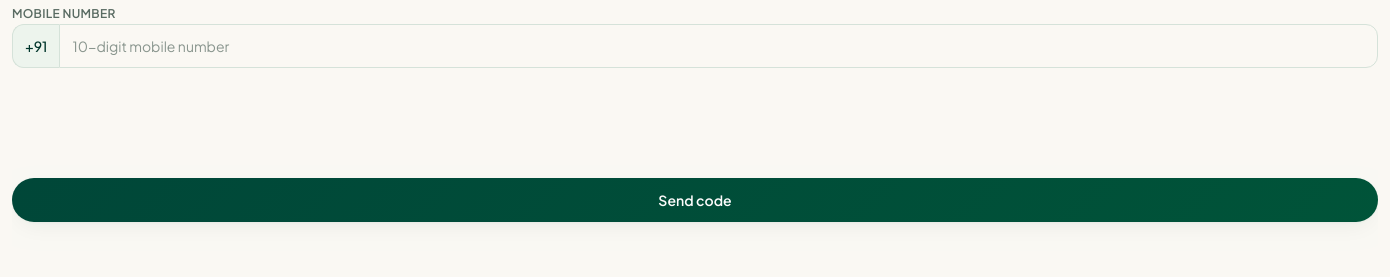
Test: MobileOtpForm › number step › shows the widget's reason when sending fails
Expected: the button "Send code" is enabled, [12, 178, 1378, 222]
Type "9876543210" into the field labelled "Mobile number" at (719, 46), box [60, 24, 1378, 68]
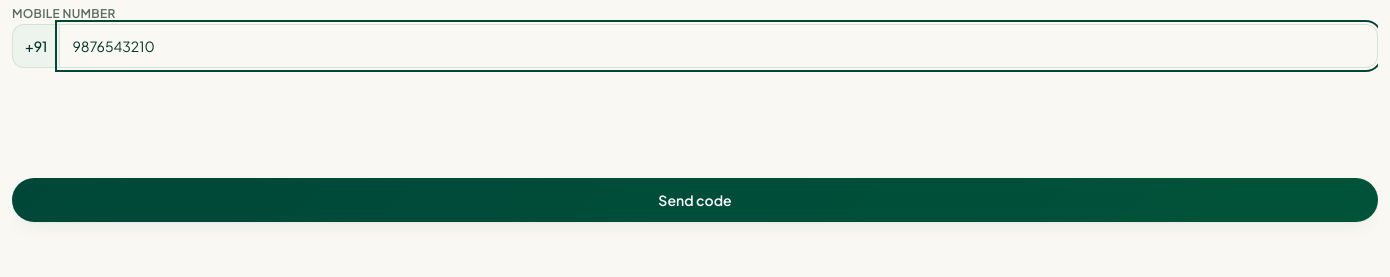
Click the button "Send code" at (695, 200), box [12, 178, 1378, 222]
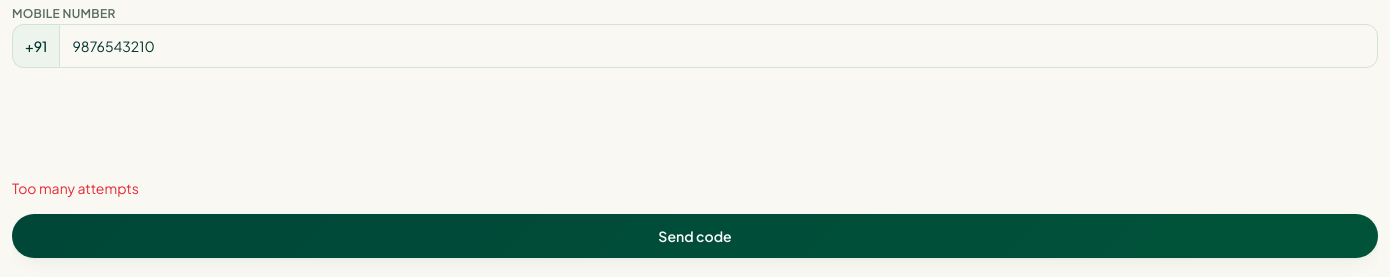
Expected: the field labelled "Mobile number" is enabled, [60, 24, 1378, 68]
Now the message reads "Too many attempts", box [12, 179, 139, 197]
